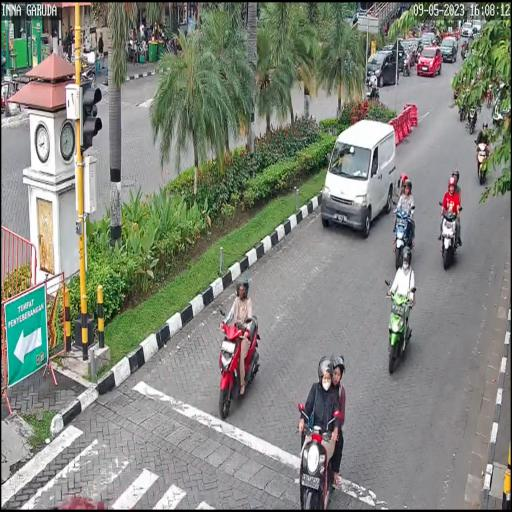mobil: (319, 114, 401, 246)
motor: (290, 396, 349, 512), (214, 308, 258, 422), (381, 276, 421, 377), (438, 194, 466, 272), (390, 202, 421, 272)
